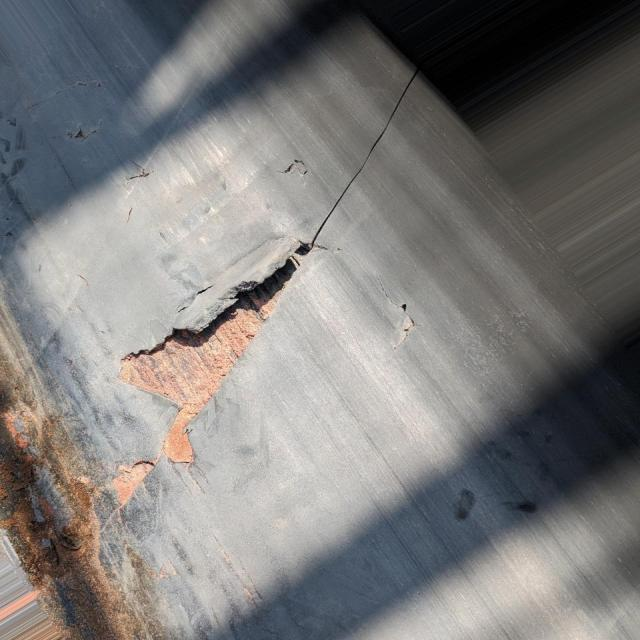Tear: (99, 71, 418, 514), (278, 151, 310, 180), (123, 156, 157, 182), (58, 123, 100, 140)
